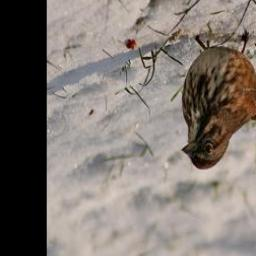Sparrow: (182, 30, 256, 173)
